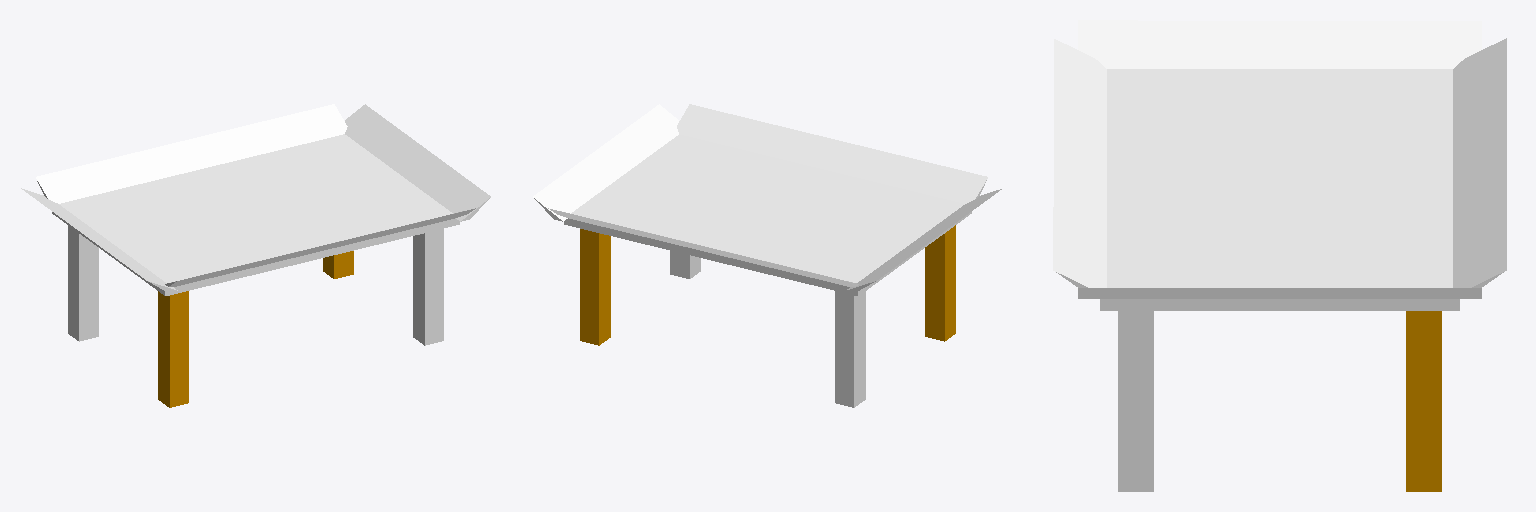
robot.urdf — table.urdf:
<?xml version="0.0" ?>
<robot name="table.urdf">
       <material name="white">
                      <color rgba="1.0 1.0 1.0 1.0"/>
      </material>

  <link name="baseLink">
    <contact>
      <lateral_friction value="1.0"/>
    </contact>
    <inertial>
      <origin rpy="0 0 0" xyz="0 0 0"/>
       <mass value=".0"/>
       <inertia ixx="1" ixy="0" ixz="0" iyy="1" iyz="0" izz="1"/>
    </inertial>
    <visual>
      <origin rpy="0 0 0" xyz="0 0 0.6"/>
      <geometry>
	 	<box size="1.5 1 0.05"/>
      </geometry>
    <material name="white" />
    </visual>
    <collision>
      <origin rpy="0 0 0" xyz="0 0 0.6"/>
      <geometry>
	 	<box size="1.5 1 0.05"/>
      </geometry>
    </collision>
	<visual>
      <origin rpy="0 0 0" xyz="-0.65 -0.4 0.29"/>
      <geometry>
    <box size="0.1 0.1 0.58"/>
      </geometry>
    </visual>
    <visual>
      <origin rpy="0 0 0" xyz="-0.65 0.4 0.29"/>
      <geometry>
    <box size="0.1 0.1 0.58"/>
      </geometry>
	  <material name="white"/>
	  </visual>
    <visual>
      <origin rpy="0 0 0" xyz="0.65 -0.4 0.29"/>
      <geometry>
    <box size="0.1 0.1 0.58"/>
      </geometry>
	  <material name="white"/>
	  </visual>
    <visual>
      <origin rpy="0 0 0" xyz="0.65 0.4 0.29"/>
      <geometry>
    <box size="0.1 0.1 0.58"/>
      </geometry>
    </visual>

    <collision>
      <origin rpy="0 0 0" xyz="0 0.47 0.62"/>
      <geometry>
            <mesh filename="table_edge.obj" scale="30 10 10"/>
      </geometry>
    </collision>
    <visual>
      <origin rpy="0 0 0" xyz="0 0.47 0.62"/>
      <geometry>
            <mesh filename="table_edge.obj" scale="30 10 10"/>
      </geometry>
       <material name="white">
        <color rgba="1 1 1 1"/>
      </material>
    </visual>

    <collision>
          <origin rpy="0 0 3.1415" xyz="0 -0.47 0.62"/>
          <geometry>
                <mesh filename="table_edge.obj" scale="30 10 10"/>
          </geometry>
    </collision>
    <visual>
      <origin rpy="0 0 3.1415" xyz="0 -0.47 0.62"/>
      <geometry>
            <mesh filename="table_edge.obj" scale="30 10 10"/>
      </geometry>
       <material name="white">
        <color rgba="1 1 1 1"/>
      </material>
    </visual>

    <collision>
          <origin rpy="0 0 1.57" xyz="-0.72 0 0.62"/>
          <geometry>
            <mesh filename="table_edge.obj" scale="30 10 10"/>
          </geometry>
    </collision>
    <visual>
      <origin rpy="0 0 1.57" xyz="-0.72 0 0.62"/>
      <geometry>
            <mesh filename="table_edge.obj" scale="22 10 10"/>
      </geometry>
       <material name="white">
        <color rgba="1 1 1 1"/>
      </material>
    </visual>


    <collision>
          <origin rpy="0 0 4.7115" xyz="0.72 0 0.62"/>
          <geometry>
            <mesh filename="table_edge.obj" scale="30 10 10"/>
          </geometry>
    </collision>
    <visual>
      <origin rpy="0 0 4.7115" xyz="0.72 0 0.62"/>
      <geometry>
                <mesh filename="table_edge.obj" scale="22 10 10"/>
      </geometry>
       <material name="white">
        <color rgba="1 1 1 1"/>
      </material>
    </visual>
  </link>
</robot>

--- Render facts (derived) ---
The picture shows the robot from 3 angles, left to right: view 1: azimuth 30°, elevation 25°; view 2: azimuth 150°, elevation 25°; view 3: azimuth 270°, elevation 25°; orthographic projection.
Robot: table.urdf — 1 links, 0 joints (none); root link baseLink; default pose: all joints at 0.
Visible links, largest first — view 1: baseLink; view 2: baseLink; view 3: baseLink.
Boxes of the visible links, <box> form: baseLink: <box>21,104,490,407</box>; baseLink: <box>533,104,1001,407</box>; baseLink: <box>1053,20,1506,491</box>.
Size in the robot's own frame: 1.76 by 1.26 by 0.7045 metres.
4 mesh visuals loaded from 1 distinct referenced files (1 OBJ).